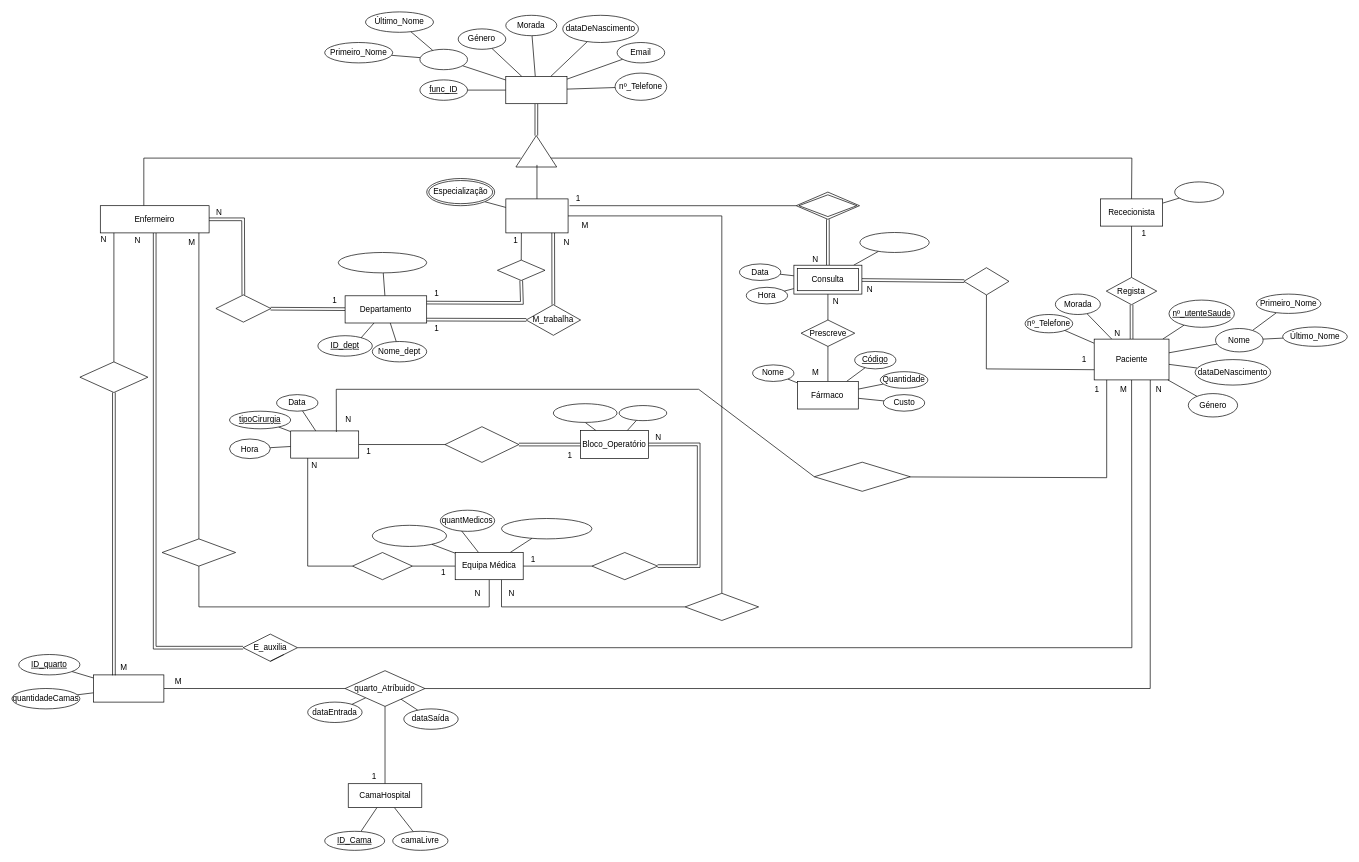
This 1359x862 diagram has some shape labels left out. Each missing label, with the box of its shape:
Agenda: (963, 267, 1009, 295)
C_realizada no: (444, 426, 519, 462)
Cirurgia: (290, 430, 359, 458)
E_supervisiona: (79, 361, 148, 392)
E_trabalha: (215, 294, 271, 322)
EM_atribuida: (591, 552, 658, 580)
EM_contem_E: (161, 538, 236, 566)
EM_contem_M: (684, 593, 759, 620)
EM_realiza: (352, 552, 412, 580)
func_Nome: (419, 49, 468, 70)
Funcionário: (505, 76, 567, 104)
Gere: (497, 259, 545, 280)
IS-A: (515, 135, 557, 167)
M_realiza: (796, 191, 860, 219)
Médico: (505, 198, 568, 233)
nomeCirurgiao_Chefe: (501, 518, 592, 539)
nomeSupervisor_dept: (338, 252, 427, 273)
numero_Consulta: (859, 232, 929, 252)
numeroBloco: (553, 403, 617, 422)
nº_Balcão: (1174, 181, 1224, 202)
Pode necessitar de: (814, 462, 910, 491)
quantEnfermeiros: (372, 525, 447, 546)
quartoHospital: (93, 674, 164, 702)
Utilização: (618, 405, 667, 421)
